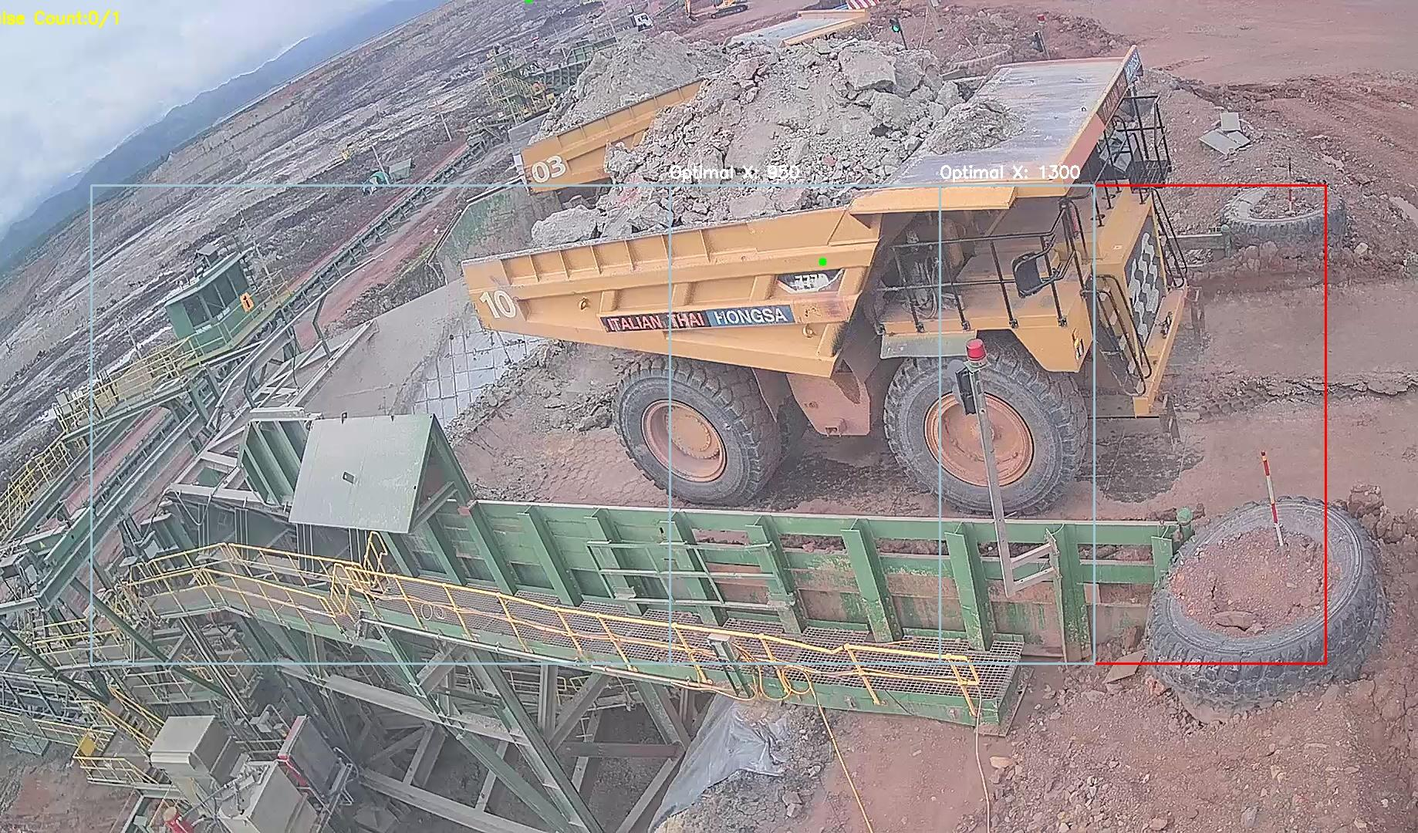company: (600, 291, 803, 339)
full_load: (630, 30, 916, 224)
mining_truck: (453, 19, 1218, 505)
tail_number: (470, 278, 537, 331)
truck_size: (767, 262, 852, 296)
